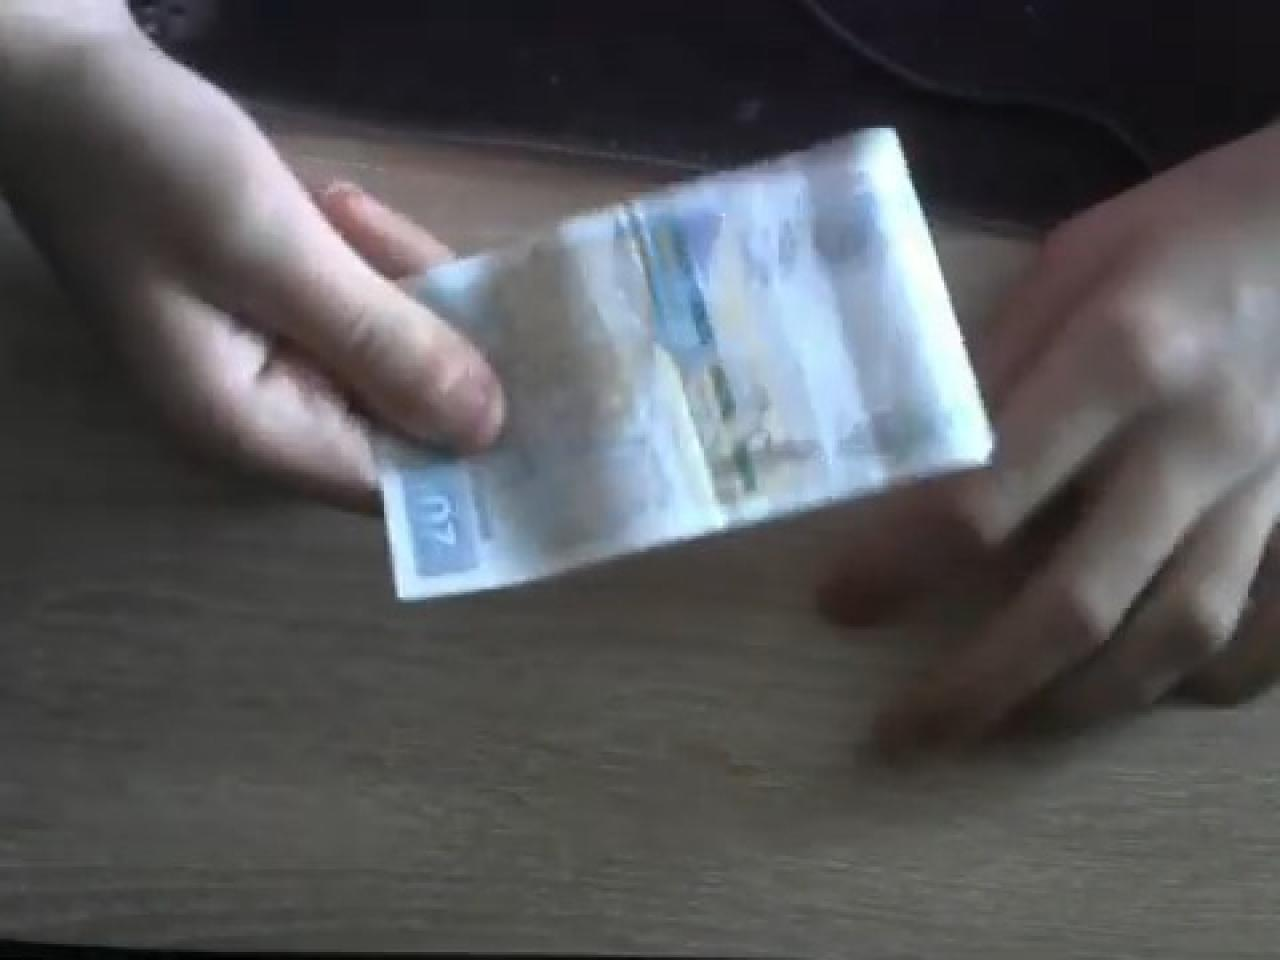20leva: (368, 128, 998, 605)
